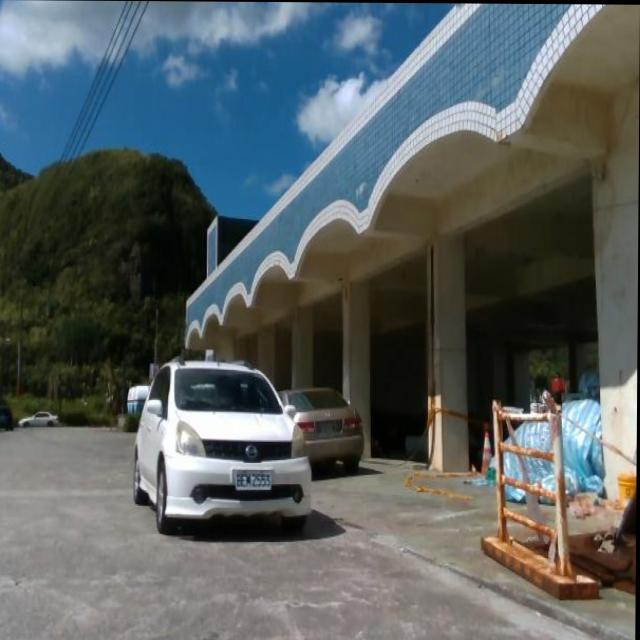pollute: (484, 362, 609, 514)
